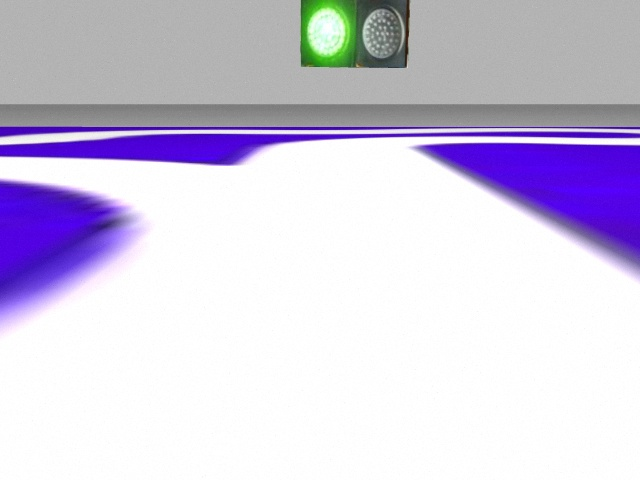green: (300, 1, 355, 64)
